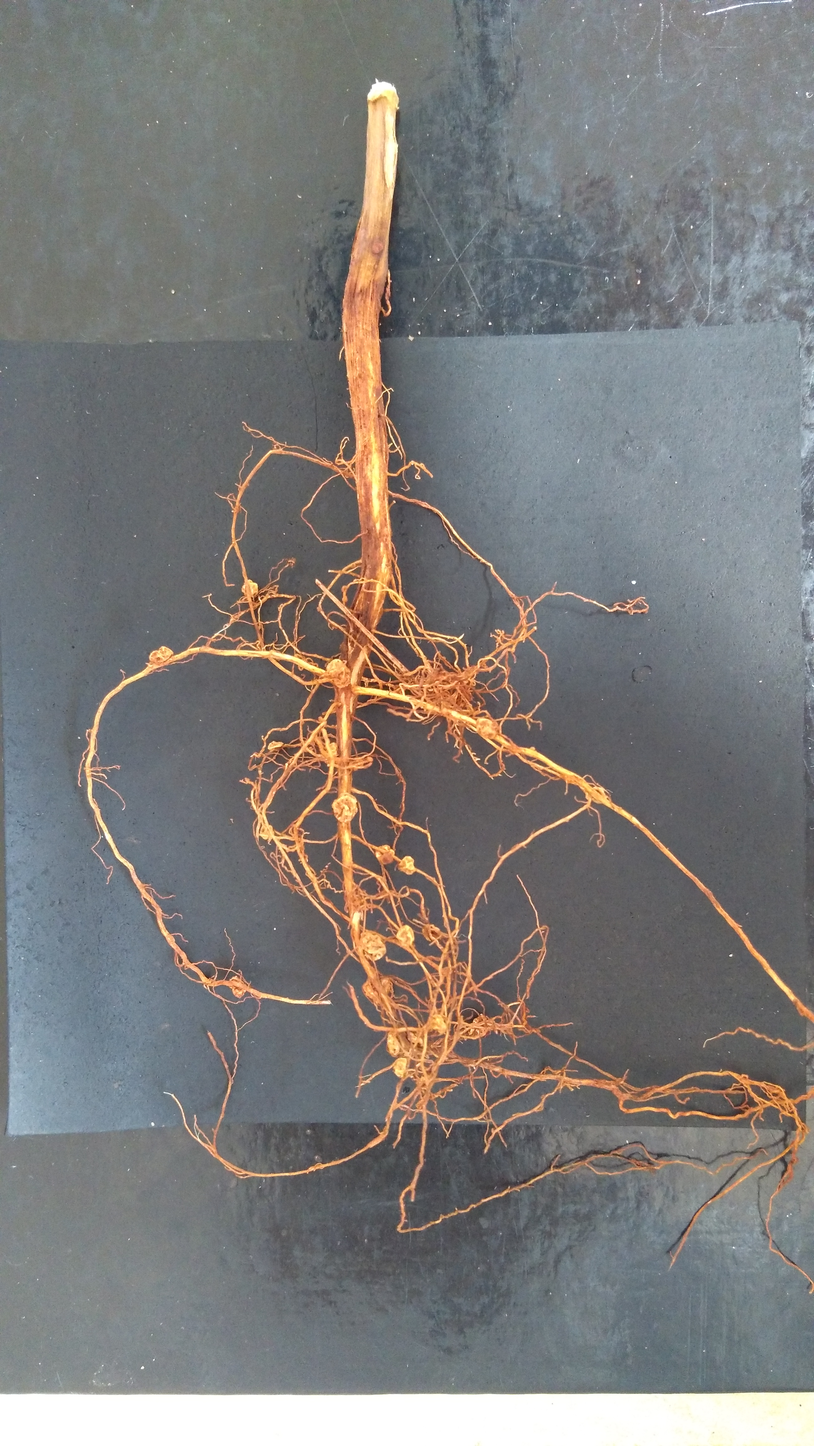nodule: (358, 929, 388, 962), (328, 794, 360, 824), (363, 975, 393, 1006), (324, 658, 352, 690), (474, 716, 499, 741), (227, 975, 249, 1000), (147, 645, 175, 664), (394, 922, 416, 946), (373, 842, 395, 865), (429, 1012, 450, 1035), (397, 854, 417, 877), (391, 1056, 410, 1080), (385, 1030, 401, 1058), (405, 1030, 428, 1048), (240, 578, 260, 598), (322, 741, 340, 758), (258, 824, 276, 840), (347, 758, 364, 772), (266, 739, 285, 751)
